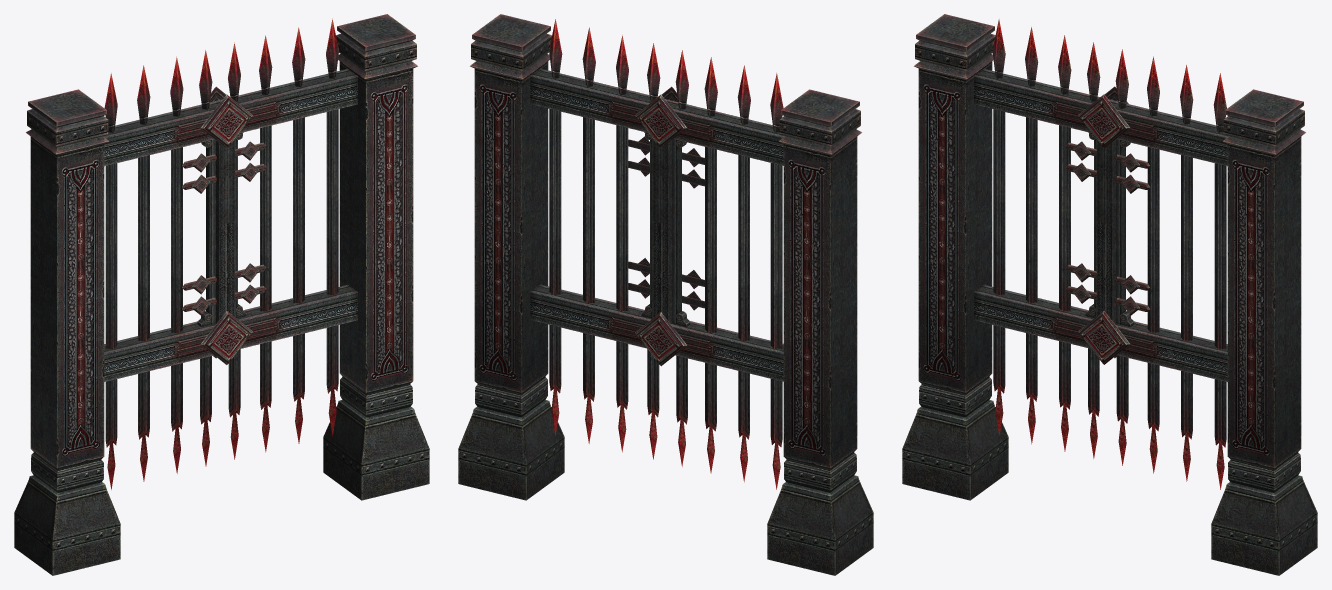
Rendered from flame_door_002.fbx.
3 renders of one model, left to right at view 1: azimuth 30°, elevation 25°; view 2: azimuth 150°, elevation 25°; view 3: azimuth 330°, elevation 25°, orthographic.
Parts seen in each view (by area): view 1: flame_door1; view 2: flame_door1; view 3: flame_door1.
Boxes of the visible parts, x1,y1,x2,y2 form: flame_door1: (14,14,429,575); flame_door1: (458,14,873,575); flame_door1: (902,14,1317,575).
Bounding box in the file's own units: 14.45 × 17.24 × 2.55.
